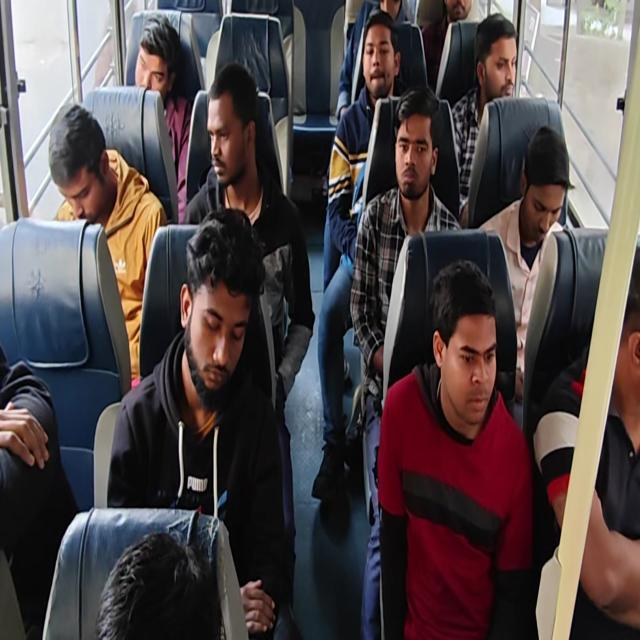person: (179, 199, 266, 410), (98, 509, 218, 640), (424, 258, 507, 435), (42, 85, 109, 239), (599, 226, 640, 440), (520, 119, 576, 245), (204, 66, 258, 189), (392, 92, 444, 214), (475, 7, 530, 114), (349, 12, 407, 106), (127, 16, 184, 107), (442, 0, 480, 37), (375, 0, 410, 21)
